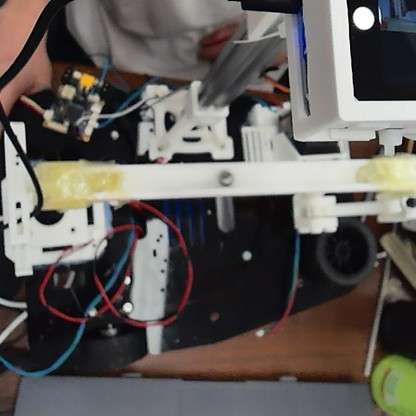ironball: (217, 165, 236, 185)
